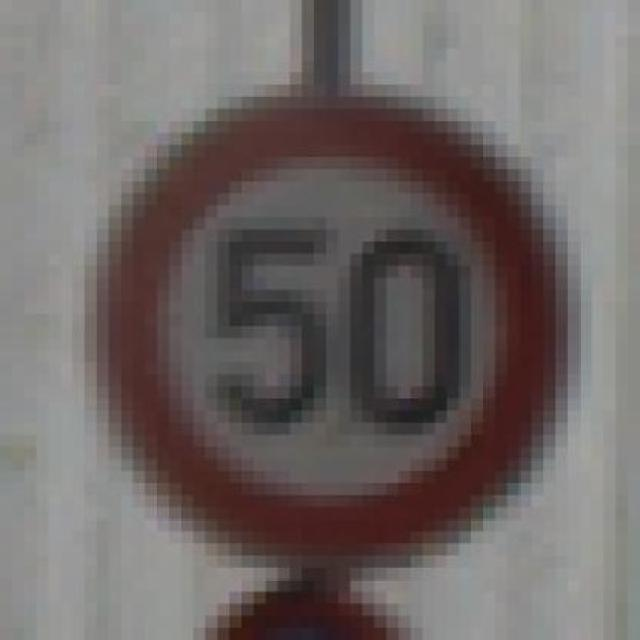forb_speed_over_50: (107, 102, 556, 559)
